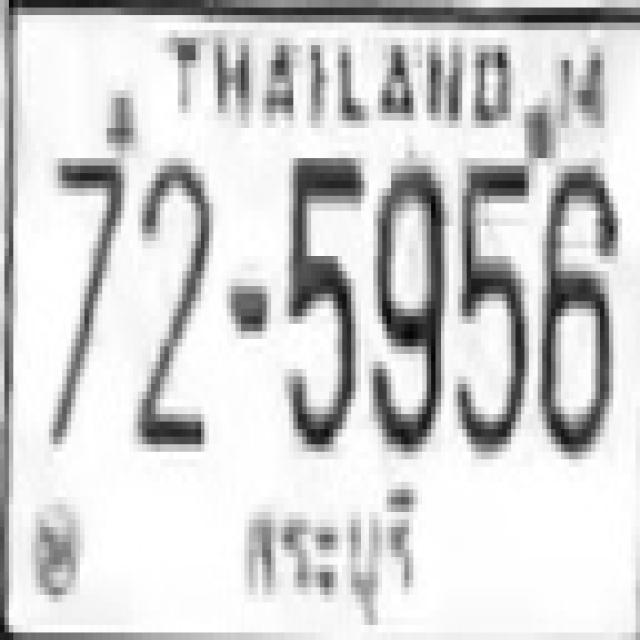2: (133, 151, 209, 444)
5: (280, 151, 360, 444), (454, 158, 524, 452)
6: (534, 158, 614, 452)
7: (44, 140, 124, 440)
9: (369, 158, 440, 444)
SRI: (232, 469, 426, 633)
